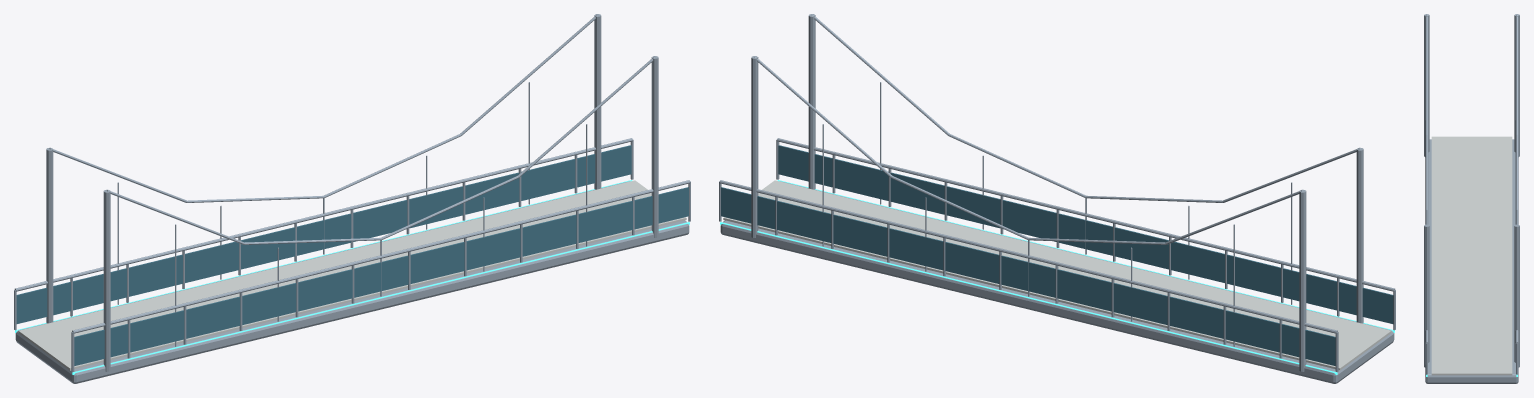
File: skybridge.glb
The picture shows the model from 3 angles, left to right: view 1: azimuth 30°, elevation 25°; view 2: azimuth 150°, elevation 25°; view 3: azimuth 270°, elevation 25°; orthographic projection. The views are drawn at different scales.
Parts seen in each view (by area): view 1: Glass balustrade, Bridge deck, Inset walkway, Bridge edge light; view 2: Glass balustrade, Bridge deck, Inset walkway, Bridge edge light; view 3: Inset walkway, Bridge deck.
Part boxes in pixels (x1=…): Glass balustrade: x1=16, y1=145, x2=688, y2=365; Bridge deck: x1=14, y1=14, x2=690, y2=383; Inset walkway: x1=18, y1=180, x2=686, y2=370; Bridge edge light: x1=15, y1=180, x2=689, y2=374; Glass balustrade: x1=721, y1=145, x2=1393, y2=365; Bridge deck: x1=719, y1=14, x2=1395, y2=383; Inset walkway: x1=723, y1=180, x2=1391, y2=370; Bridge edge light: x1=720, y1=180, x2=1394, y2=374; Inset walkway: x1=1431, y1=136, x2=1512, y2=375; Bridge deck: x1=1424, y1=14, x2=1519, y2=383.
Bounding box in the file's own units: 18.07 × 5.21 × 3.08.
